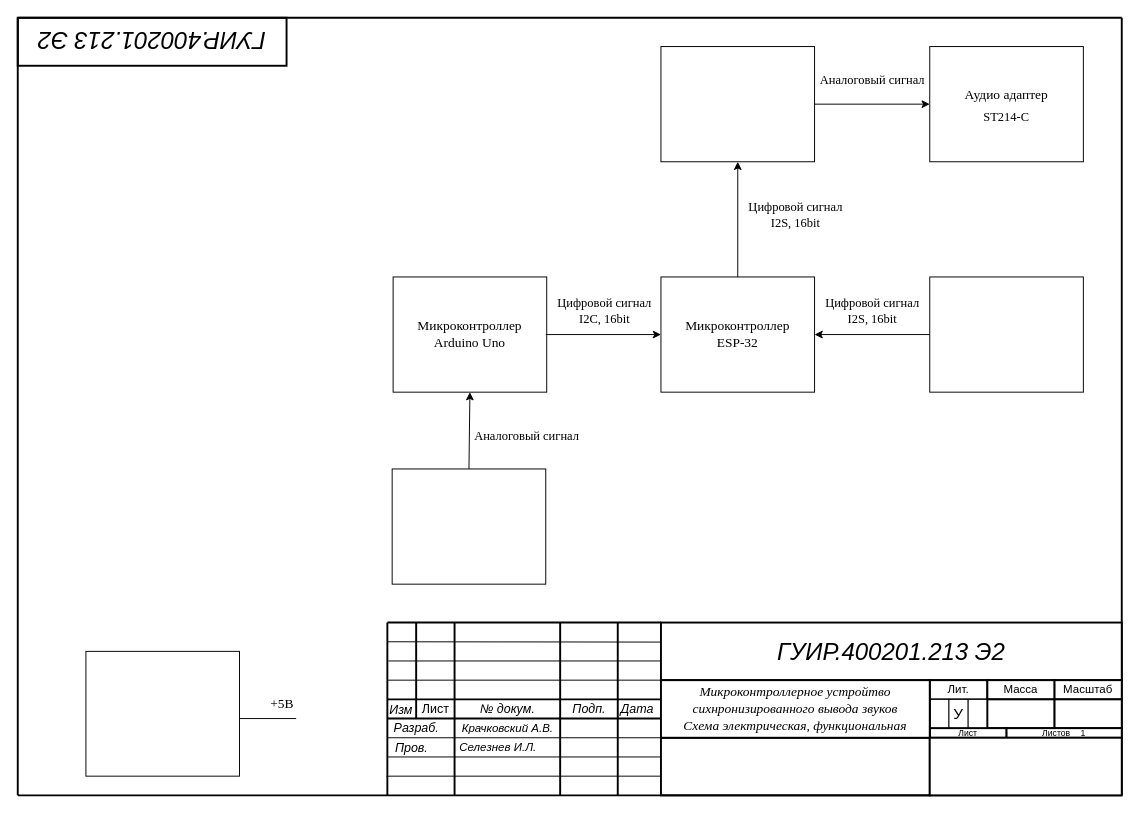
Image size: 1140x813. Some labels were removed from this diagram. The shapes that lost their labels are listed below. From the top down, each one's centre as x and y in pixels, then its label:
At pixel 737 104: "Цифрованалоговый преобразователь PCM5102A".
At pixel 1006 334: "Читатель карт памяти SDCMF-10915WOT1".
At pixel 468 526: "Орган управления".
At pixel 162 713: "Блок питания".
At pixel 1025 766: "ЭВМ, гр 050502".
